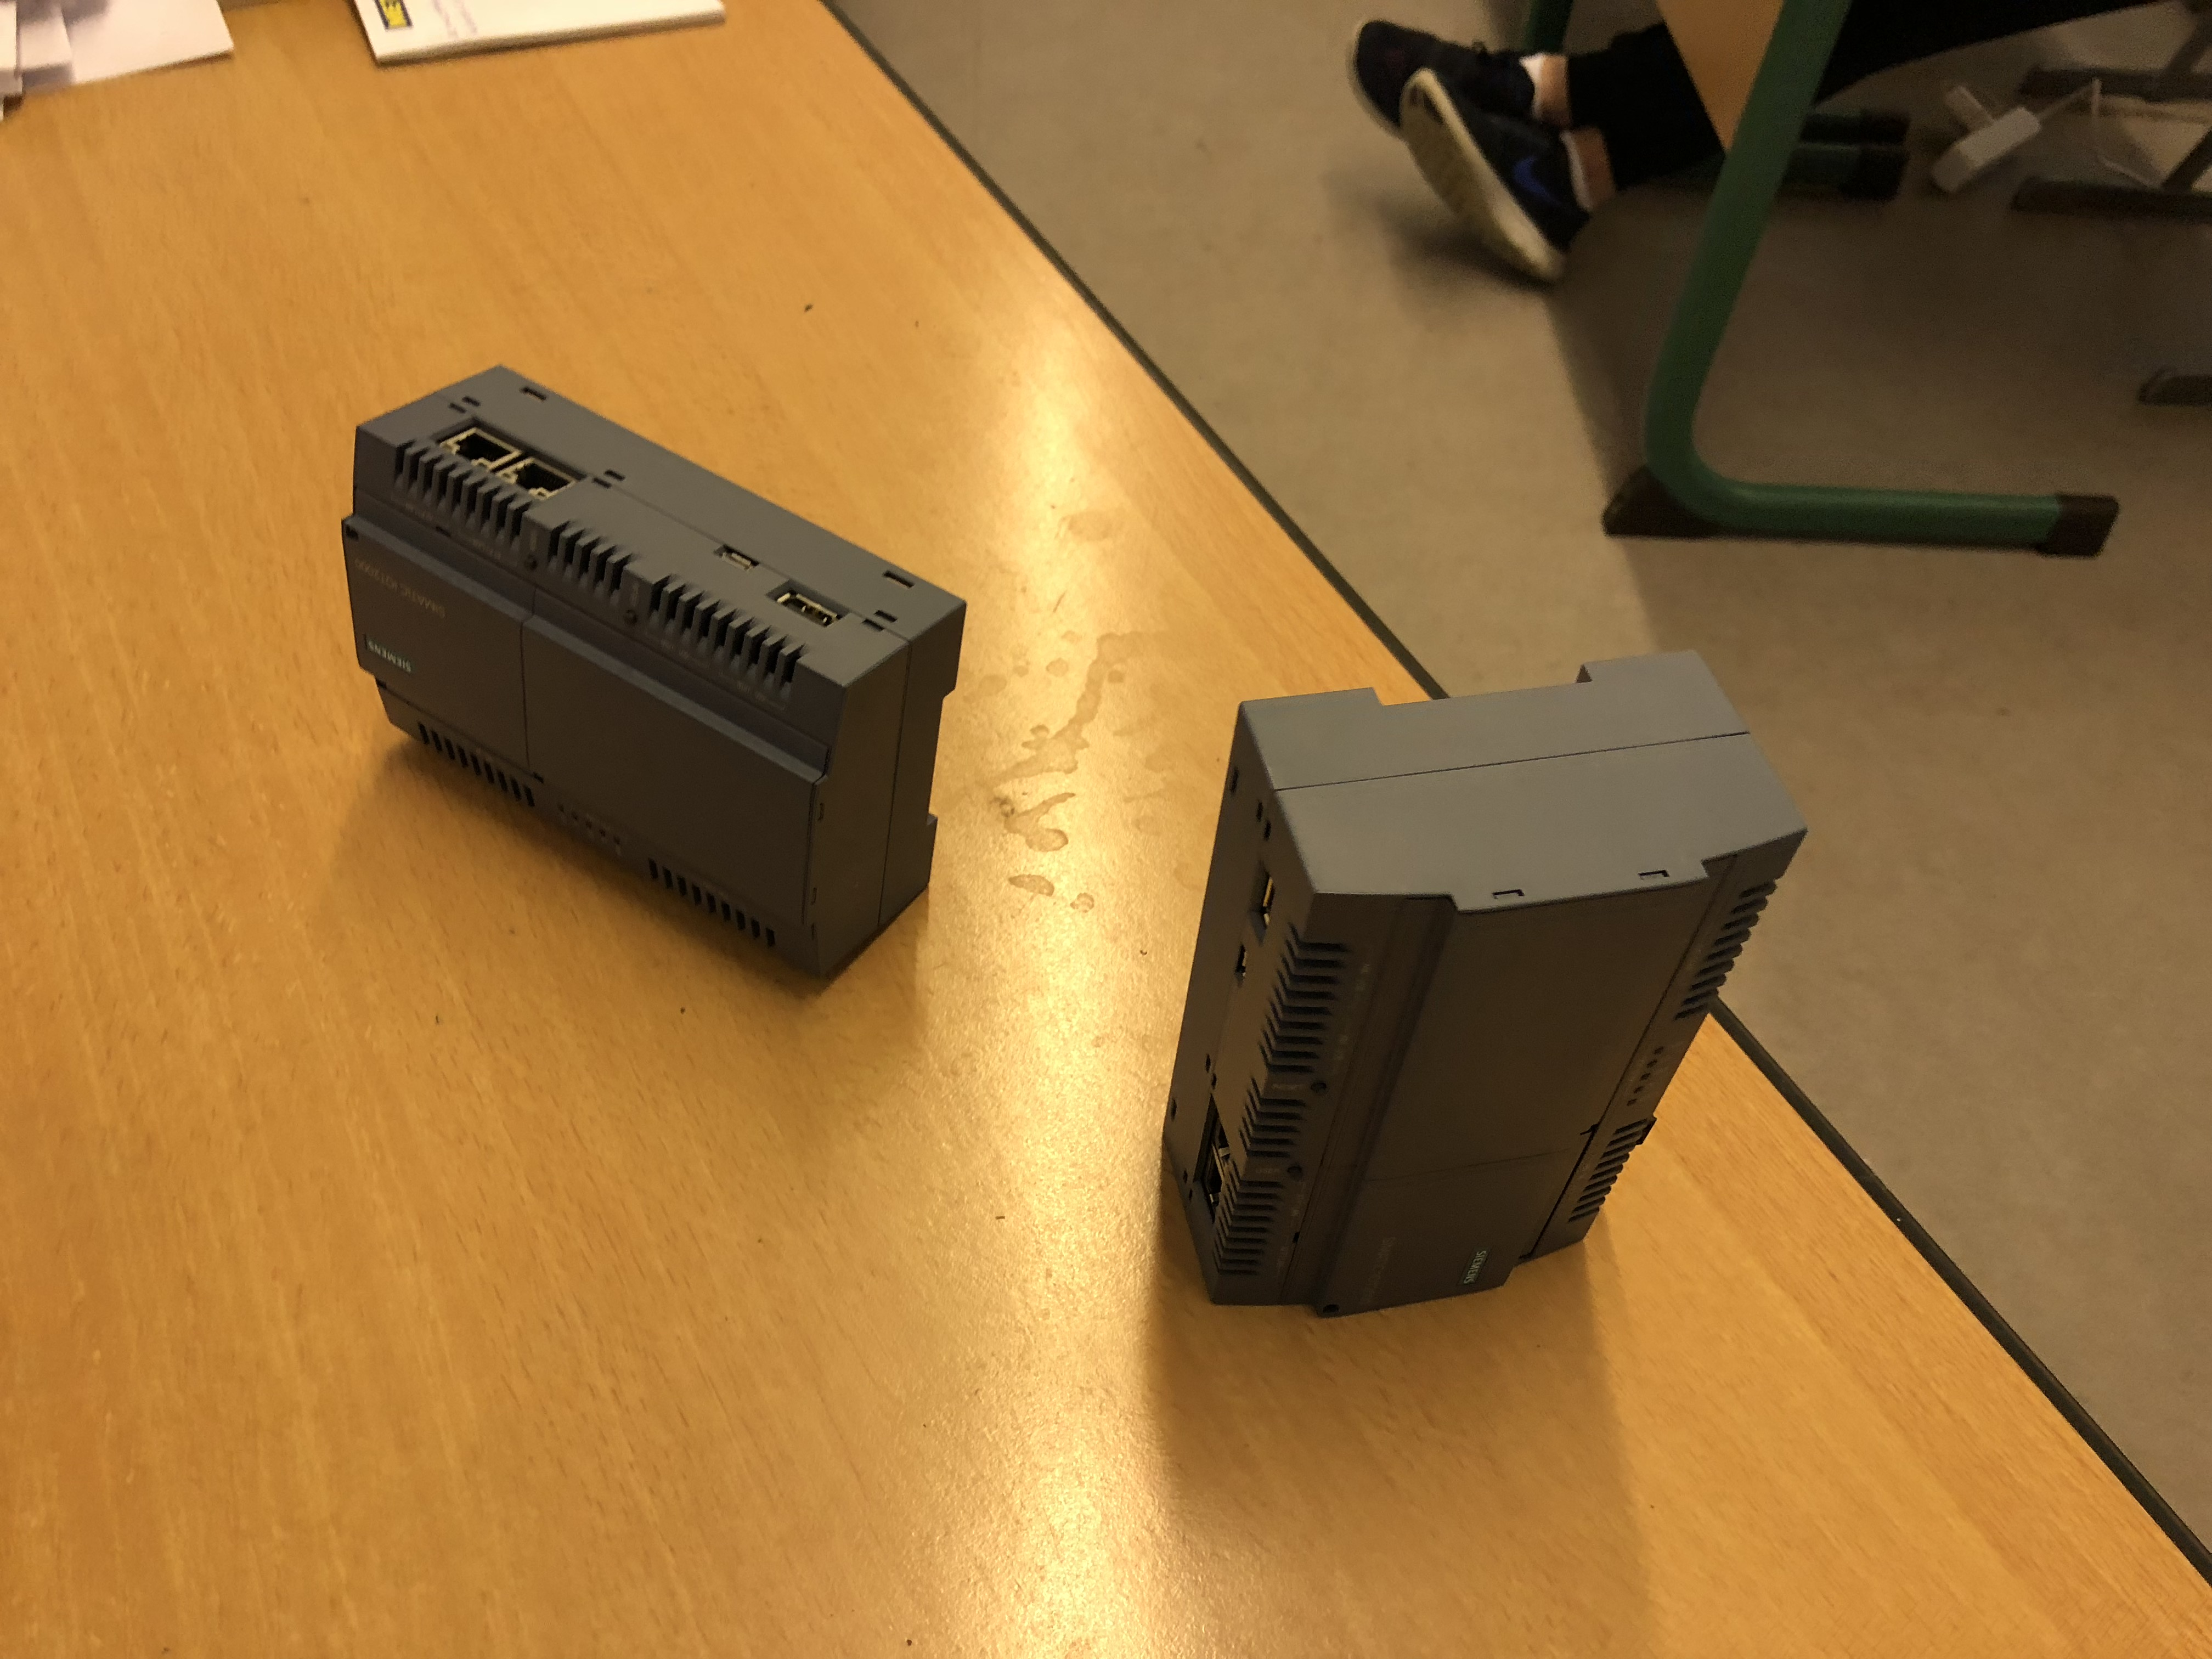device: (1162, 648, 1810, 1321), (340, 364, 968, 979)
